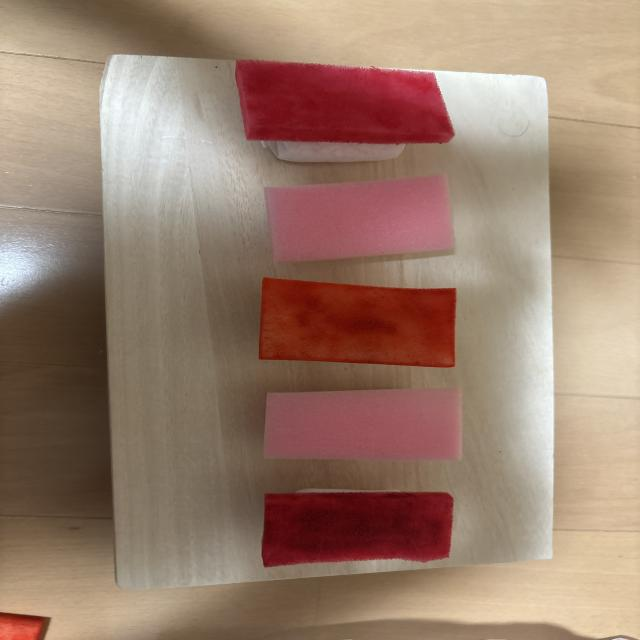NG: (236, 60, 454, 162)
maguro: (262, 489, 454, 567)
salmon: (259, 278, 456, 367)
tai: (265, 174, 454, 263), (264, 388, 462, 460)
